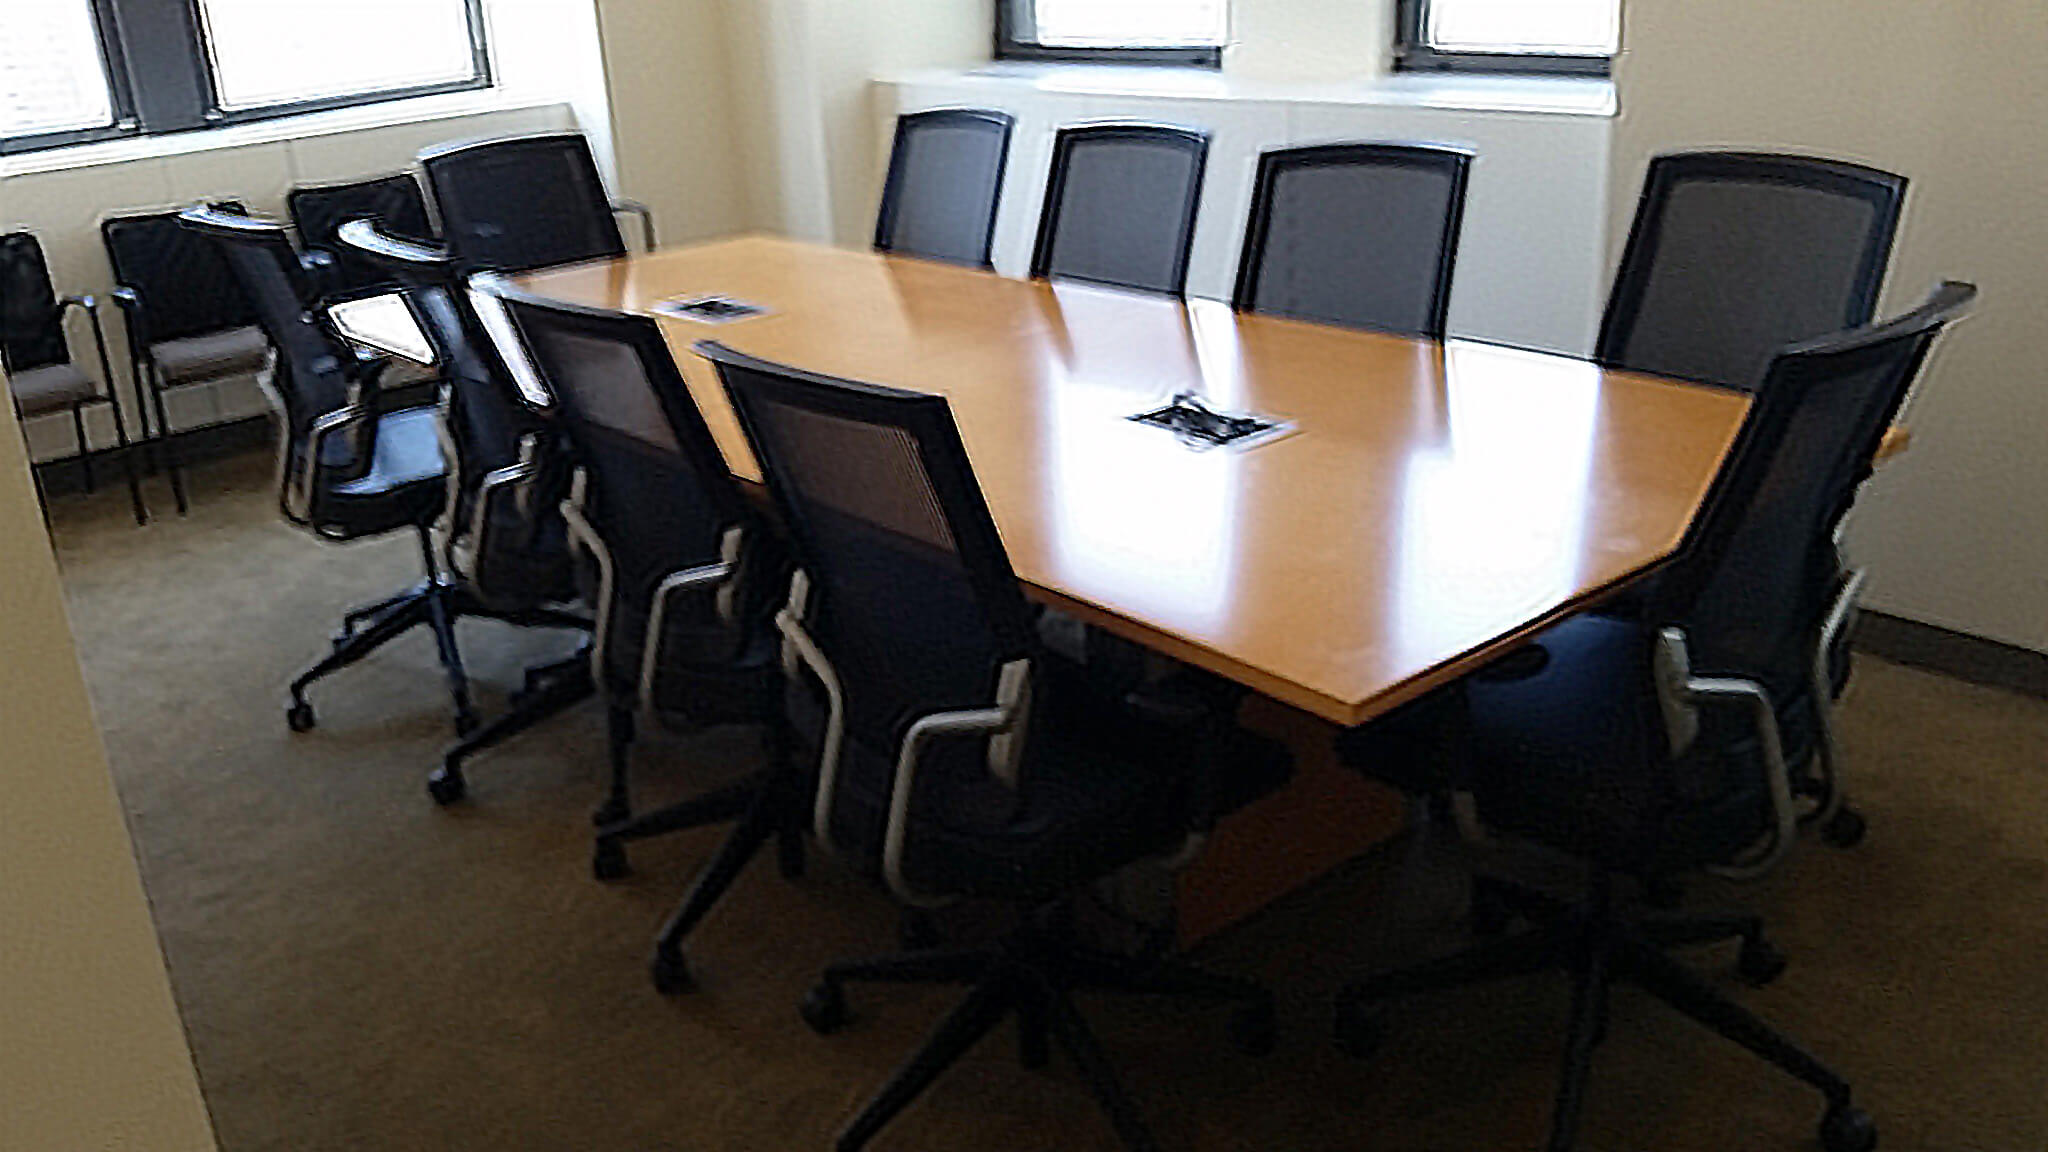conference_table: (327, 225, 1911, 733)
